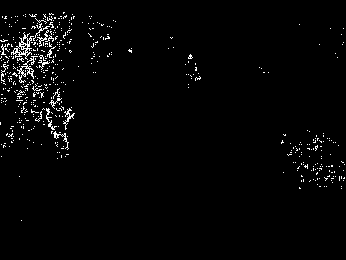person: (41, 87, 80, 160), (174, 51, 207, 96)
